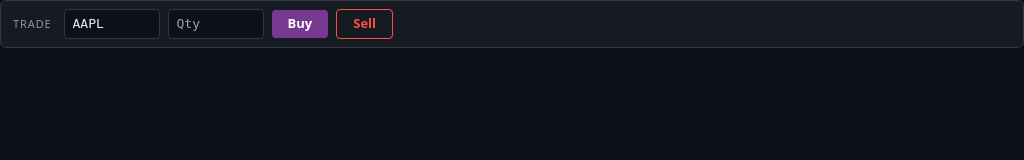
it: TradeBar › shows API errors and validates empty quantity
The image size is (1024, 160).
Click the button with test id "trade-sell" at (365, 24), box [336,9,393,38]
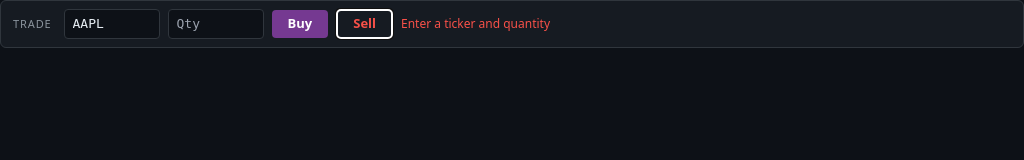
Now the message with test id "trade-notice" reads "Enter a ticker and quantity", box [401,15,550,32]
Type "1000" into the field with test id "trade-qty" at (216, 24), box [168,9,264,38]
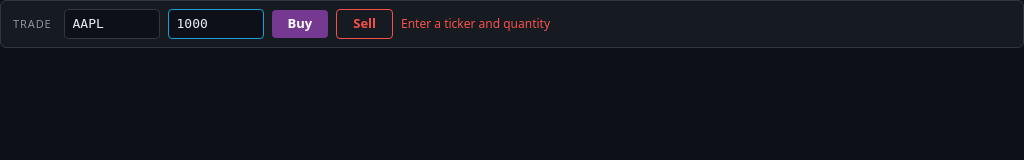
Click the button with test id "trade-buy" at (300, 24), box [272,10,328,38]
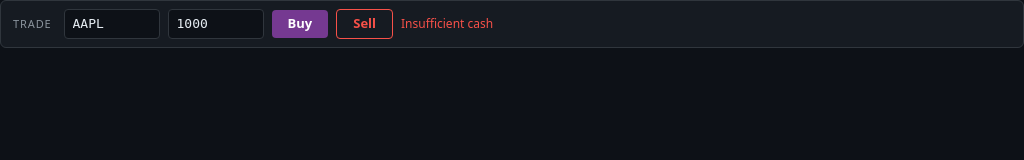
Now the text "Insufficient cash" is shown, box [401,16,493,32]
